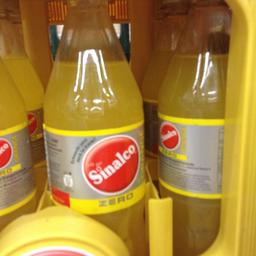soda: (41, 0, 144, 254), (156, 0, 230, 255)
